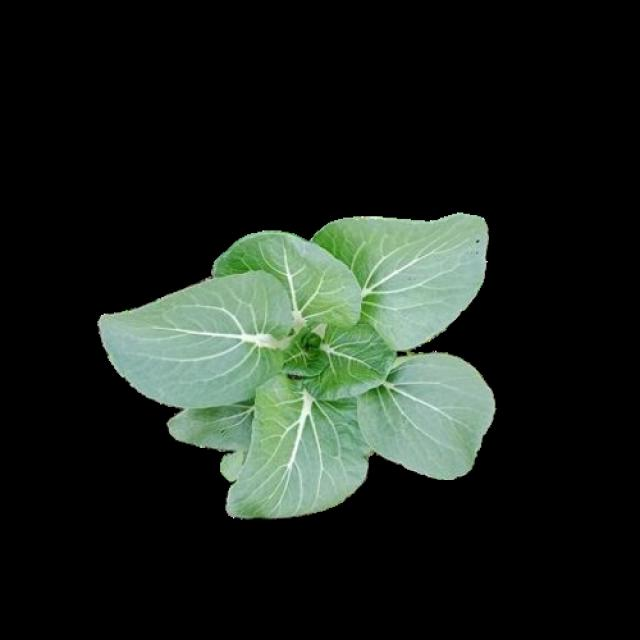not-mature: (99, 212, 492, 518)
unhealthy: (311, 212, 489, 350)
